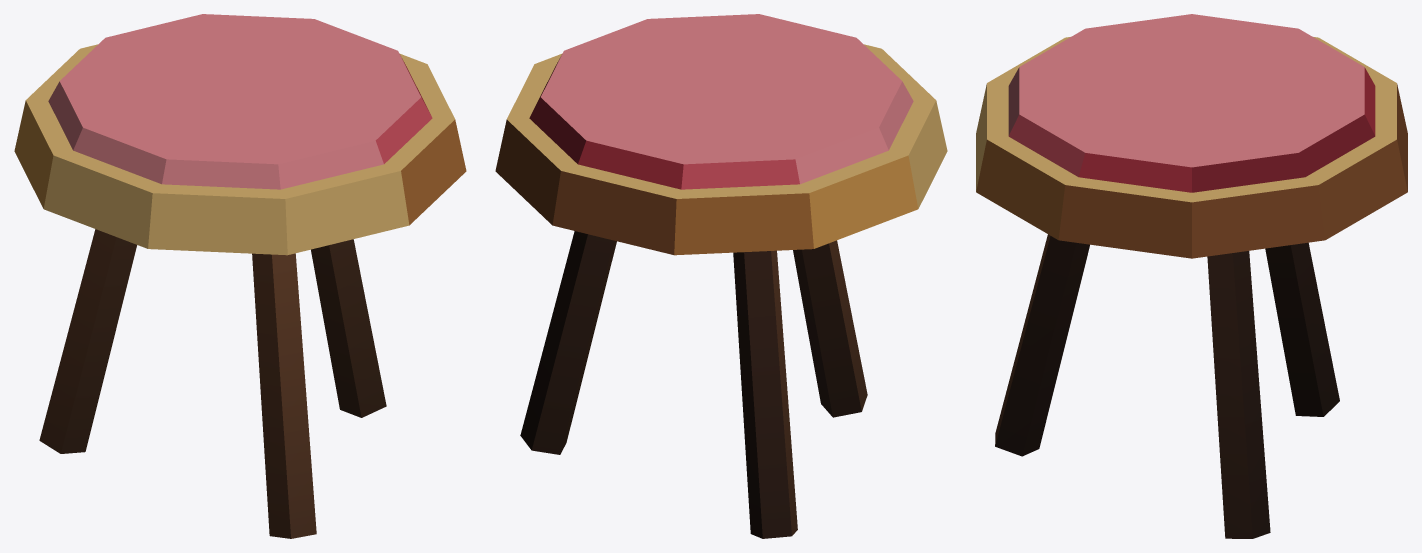
The model's file is stool.glb.
3 views of the same model, side by side, from view 1: azimuth 30°, elevation 25°; view 2: azimuth 150°, elevation 25°; view 3: azimuth 270°, elevation 25° (orthographic).
Visible parts, largest first — view 1: stool; view 2: stool; view 3: stool.
Part boxes in pixels (box(x1,y1,x2,y2)): stool: box(14, 14, 466, 538); stool: box(495, 14, 947, 538); stool: box(976, 14, 1407, 538).
Bounding box in the file's own units: 0.4 × 0.3649 × 0.3804.
